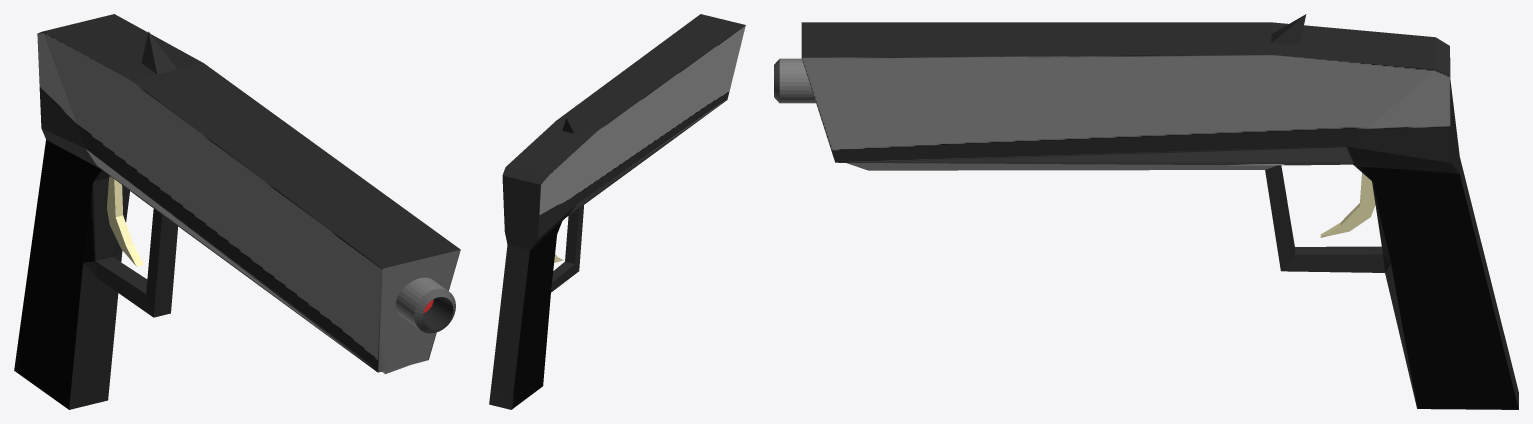
Rendered from Pistol_01.fbx.
The picture shows the model from 3 angles, left to right: view 1: azimuth 30°, elevation 25°; view 2: azimuth 150°, elevation 25°; view 3: azimuth 270°, elevation 25°; orthographic projection. The views are drawn at different scales.
Visible parts, largest first — view 1: Pistol_Body, Pistol_Nossle, Pistol_Flint; view 2: Pistol_Body; view 3: Pistol_Body, Pistol_Nossle, Pistol_Flint.
Part boxes in pixels (x1,y1,x2,y2): Pistol_Body: [14, 14, 460, 409]; Pistol_Nossle: [395, 277, 455, 333]; Pistol_Flint: [107, 176, 143, 266]; Pistol_Body: [489, 14, 745, 409]; Pistol_Body: [801, 14, 1518, 409]; Pistol_Nossle: [774, 58, 815, 103]; Pistol_Flint: [1320, 173, 1375, 237].
Bounding box in the file's own units: 25.17 × 123 × 215.
